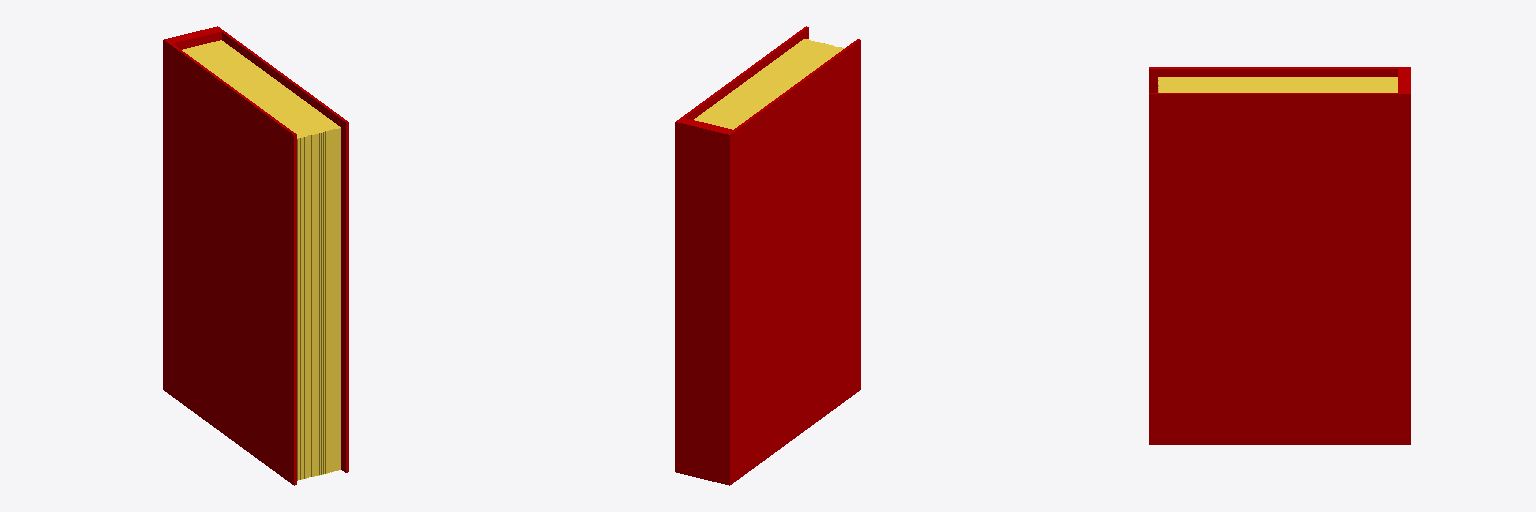
The model's file is Book.obj.
The picture shows the model from 3 angles: view 1: azimuth 30°, elevation 25°; view 2: azimuth 150°, elevation 25°; view 3: azimuth 270°, elevation 25°; orthographic projection.
Visible parts, largest first — view 1: Cube; view 2: Cube; view 3: Cube.
Part boxes in pixels (left/top/right/bottom): Cube: left=163, top=26, right=348, bottom=485; Cube: left=675, top=26, right=860, bottom=485; Cube: left=1149, top=67, right=1410, bottom=444.
Bounding box in the file's own units: 2 × 12.3 × 8.3.